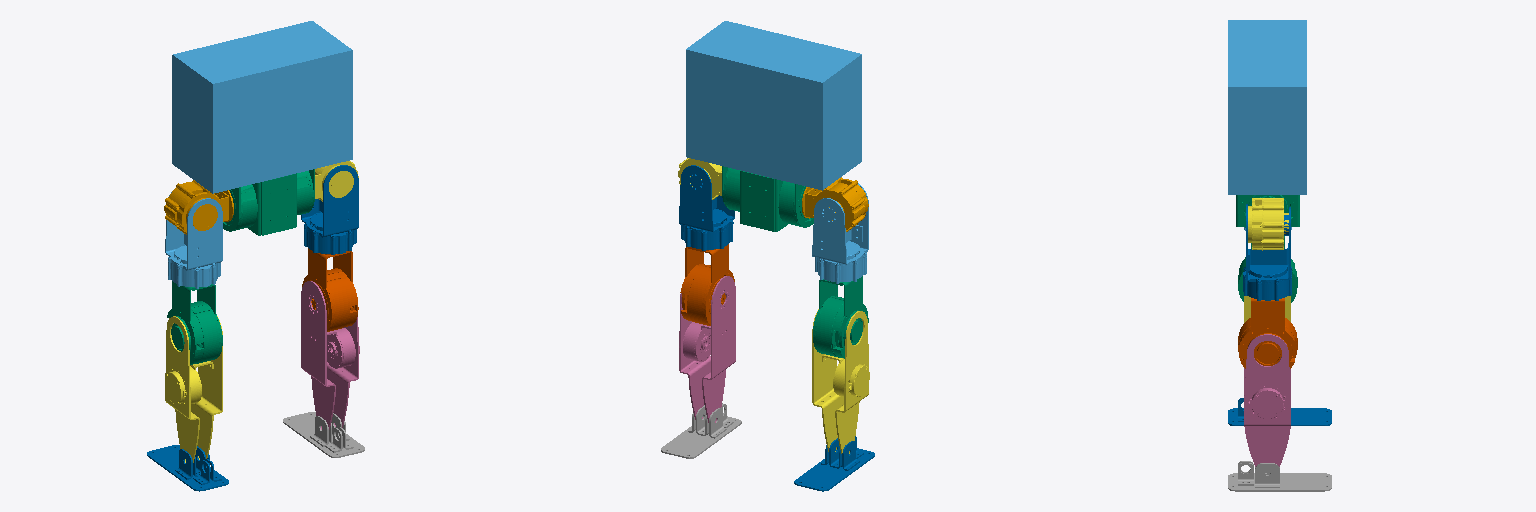
URDF robot description (ch_robot):
<?xml version='1.0' encoding='utf-8'?>
<robot name="ch_robot">
  <link name="base_link">
    <inertial>
      <mass value="0.5"/>  <!-- pick something reasonable -->
      <inertia ixx="0.01" ixy="0" ixz="0" iyy="0.01" iyz="0" izz="0.01"/>
    </inertial>
  </link>
  <link name="torso">
    <inertial>
      <!-- rough guess; tune later -->
      <mass value="10.0"/>
      <inertia ixx="0.05" ixy="0" ixz="0" iyy="0.05" iyz="0" izz="0.05"/>
    </inertial>

    <collision>
      <!-- box centered at torso frame -->
      <origin xyz="0 0 0" rpy="0 0 0" />
      <geometry>
        <box size="0.32 0.16 0.24" />
      </geometry>
    </collision>

    <visual>
      <origin xyz="0 0 0" rpy="0 0 0" />
      <geometry>
        <box size="0.32 0.16 0.24" />
      </geometry>
    </visual>
  </link>

  <link name="hip">
    <inertial>
      <origin xyz="-0.155587 -0.02906 0.584318" rpy="0 0 0"/>
      <mass value="5.159055"/>
      <inertia ixx="0.0156"
              ixy="0.000178966"
              ixz="0.000001857794"
              iyy="0.02377"
              iyz="-0.000043706028"
              izz="0.02517"/>
    </inertial>

    <collision>
      <origin xyz="0 0 0" rpy="0 0 0" />
      <geometry>
        <mesh filename="robot_meshes/hip_ch.stl" scale="0.001 0.001 0.001" />
      </geometry>
    </collision>
    <visual>
      <origin xyz="0 0 0" rpy="0 0 0" />
      <geometry>
        <mesh filename="robot_meshes/visual/hip_dumb2.stl" scale="0.001 0.001 0.001" />
      </geometry>
    </visual>
  </link>

  <link name="left_leg1">
    <inertial>
      <origin xyz="-0.005945 -0.035287 0.577433" rpy="0 0 0"/>
      <mass value="2.189611"/>
      <inertia ixx="0.002609"
              ixy="0.000081259088"
              ixz="0.000001365266"
              iyy="0.003137"
              iyz="0.000000223227"
              izz="0.003391"/>
    </inertial>

    <collision>
      <origin xyz="0.068372 0.029495 -0.577401" rpy="0 0 0" />
      <geometry>
        <mesh filename="robot_meshes/left_leg1_ch.stl" scale="0.001 0.001 0.001" />
      </geometry>
    </collision>
    <visual>
      <origin xyz="0.068372 0.029495 -0.577401" rpy="0 0 0" />
      <geometry>
        <mesh filename="robot_meshes/visual/left_leg1_dumb.stl" scale="0.001 0.001 0.001" />
      </geometry>
    </visual>
  </link>

  <link name="left_leg2">
    <inertial>
      <origin xyz="-0.000018 -0.025475 0.486173" rpy="0 0 0"/>
      <mass value="1.709674"/>
      <inertia ixx="0.006082"
              ixy="0.000025844041"
              ixz="0.000000765045"
              iyy="0.005232"
              iyz="-0.0005798"
              izz="0.002818"/>
    </inertial>

    <collision>
      <origin xyz="4.8e-05 0.029495 -0.577401" rpy="0 0 0" />
      <geometry>
        <mesh filename="robot_meshes/left_leg2_ch.stl" scale="0.001 0.001 0.001" />
      </geometry>
    </collision>
    <visual>
      <origin xyz="4.8e-05 0.029495 -0.577401" rpy="0 0 0" />
      <geometry>
        <mesh filename="robot_meshes/visual/left_leg2_dumb.stl" scale="0.001 0.001 0.001" />
      </geometry>
    </visual>
  </link>

  <link name="left_leg3">
    <inertial>
      <origin xyz="0.005174 -0.030248 0.318931" rpy="0 0 0"/>
      <mass value="3.156742"/>
      <inertia ixx="0.009368"
              ixy="0.000046968418"
              ixz="0.0002014"
              iyy="0.0081"
              iyz="-0.000049473856"
              izz="0.004377"/>
    </inertial>

    <collision>
      <origin xyz="4.8e-05 0.029495 -0.463816" rpy="0 0 0" />
      <geometry>
        <mesh filename="robot_meshes/left_leg3_ch.stl" scale="0.001 0.001 0.001" />
      </geometry>
    </collision>
    <visual>
      <origin xyz="4.8e-05 0.029495 -0.463816" rpy="0 0 0" />
      <geometry>
        <mesh filename="robot_meshes/visual/left_leg3_dumb.stl" scale="0.001 0.001 0.001" />
      </geometry>
    </visual>
  </link>

  <link name="left_leg4">
    <inertial>
      <origin xyz="0.001337 -0.031134 0.183938" rpy="0 0 0"/>
      <mass value="1.980828"/>
      <inertia ixx="0.01171"
              ixy="-0.000022781438"
              ixz="0.0002839"
              iyy="0.01193"
              iyz="-0.0002341"
              izz="0.002972"/>
    </inertial>

    <collision>
      <origin xyz="4.8e-05 0.029495 -0.306338" rpy="0 0 0" />
      <geometry>
        <mesh filename="robot_meshes/left_leg4_ch.stl" scale="0.001 0.001 0.001" />
      </geometry>
    </collision>
    <visual>
      <origin xyz="4.8e-05 0.029495 -0.306338" rpy="0 0 0" />
      <geometry>
        <mesh filename="robot_meshes/visual/left_leg4_dumb.stl" scale="0.001 0.001 0.001" />
      </geometry>
    </visual>
  </link>

  <link name="left_foot">
    <inertial>
      <origin xyz="-0.00053 -0.020276 0.011109" rpy="0 0 0"/>
      <mass value="0.765723"/>
      <inertia ixx="0.002071"
              ixy="-0.000017795772"
              ixz="0.000002818065"
              iyy="0.0004678"
              iyz="0.0001167"
              izz="0.002213"/>
    </inertial>

    <collision>
      <origin xyz="-0.00958 0.03 -0.031528" rpy="0 0 0" />
      <geometry>
        <mesh filename="robot_meshes/left_foot_ch.stl" scale="0.001 0.001 0.001" />
      </geometry>
    </collision>
    <visual>
      <origin xyz="-0.00958 0.03 -0.031528" rpy="0 0 0" />
      <geometry>
        <mesh filename="robot_meshes/visual/left_foot.stl" scale="0.001 0.001 0.001" />
      </geometry>
    </visual>
  </link>

  <link name="right_leg1">
    <inertial>
      <origin xyz="-0.305326 -0.035287 0.577434" rpy="0 0 0"/>
      <mass value="2.189548"/>
      <inertia ixx="0.002609"
              ixy="-0.000081252869"
              ixz="-0.00000135392"
              iyy="0.003137"
              iyz="0.00000024481"
              izz="0.003391"/>
    </inertial>
    <collision>
      <origin xyz="0.2429 0.029495 -0.577401" rpy="0 0 0" />
      <geometry>
        <mesh filename="robot_meshes/right_leg1_ch.stl" scale="0.001 0.001 0.001" />
      </geometry>
    </collision>
    <visual>
      <origin xyz="0.2429 0.029495 -0.577401" rpy="0 0 0" />
      <geometry>
        <mesh filename="robot_meshes/visual/right_leg1_dumb.stl" scale="0.001 0.001 0.001" />
      </geometry>
    </visual>
  </link>
  
  <link name="right_leg2">
    <inertial>
      <origin xyz="-0.311252 -0.025506 0.485714" rpy="0 0 0"/>
      <mass value="1.72284"/>
      <inertia ixx="0.006132"
              ixy="-0.000025837194"
              ixz="-0.000000742612"
              iyy="0.005281"
              iyz="-0.000583"
              izz="0.002822"/>
    </inertial>
    <collision>
      <origin xyz="0.311223 0.029495 -0.577401" rpy="0 0 0" />
      <geometry>
        <mesh filename="robot_meshes/right_leg2_ch.stl" scale="0.001 0.001 0.001" />
      </geometry>
    </collision>
    <visual>
      <origin xyz="0.311223 0.029495 -0.577401" rpy="0 0 0" />
      <geometry>
        <mesh filename="robot_meshes/visual/right_leg2_dumb.stl" scale="0.001 0.001 0.001" />
      </geometry>
    </visual>
  </link>
  <link name="right_leg3">
    <inertial>
      <origin xyz="-0.317293 -0.030266 0.31875" rpy="0 0 0"/>
      <mass value="3.074969"/>
      <inertia ixx="0.009174"
              ixy="-0.000045044639"
              ixz="-0.0002255"
              iyy="0.007824"
              iyz="-0.000049133206"
              izz="0.004262"/>
    </inertial>
    <collision>
      <origin xyz="0.311223 0.029495 -0.463816" rpy="0 0 0" />
      <geometry>
        <mesh filename="robot_meshes/right_leg3_ch.stl" scale="0.001 0.001 0.001" />
      </geometry>
    </collision>
    <visual>
      <origin xyz="0.311223 0.029495 -0.463816" rpy="0 0 0" />
      <geometry>
        <mesh filename="robot_meshes/visual/right_leg3_dumb.stl" scale="0.001 0.001 0.001" />
      </geometry>
    </visual>
  </link>
  <link name="right_leg4">
    <inertial>
      <origin xyz="-0.312608 -0.031134 0.183938" rpy="0 0 0"/>
      <mass value="1.980828"/>
      <inertia ixx="0.01171"
              ixy="0.000022781459"
              ixz="-0.0002839"
              iyy="0.01193"
              iyz="-0.0002341"
              izz="0.002972"/>
    </inertial>
    <collision>
      <origin xyz="0.311223 0.029495 -0.306338" rpy="0 0 0" />
      <geometry>
        <mesh filename="robot_meshes/right_leg4_ch.stl" scale="0.001 0.001 0.001" />
      </geometry>
    </collision>
    <visual>
      <origin xyz="0.311223 0.029495 -0.306338" rpy="0 0 0" />
      <geometry>
        <mesh filename="robot_meshes/visual/right_leg4_dumb.stl" scale="0.001 0.001 0.001" />
      </geometry>
    </visual>
  </link>
  
  <link name="right_foot">
    <inertial>
      <origin xyz="-0.310741 -0.020276 0.011109" rpy="0 0 0"/>
      <mass value="0.765723"/>
      <inertia ixx="0.002071"
              ixy="0.000017795772"
              ixz="-0.000002818065"
              iyy="0.0004678"
              iyz="0.0001167"
              izz="0.002213"/>
    </inertial>
    <collision>
      <origin xyz="0.320851 0.03 -0.031528" rpy="0 0 0" />
      <geometry>
        <mesh filename="robot_meshes/right_foot_ch.stl" scale="0.001 0.001 0.001" />
      </geometry>
    </collision>
    <visual>
      <origin xyz="0.320851 0.03 -0.031528" rpy="0 0 0" />
      <geometry>
        <mesh filename="robot_meshes/visual/right_foot.stl" scale="0.001 0.001 0.001" />
      </geometry>
    </visual>
  </link>

  <joint name="hip_to_torso" type="fixed">
    <parent link="hip"/>
    <child  link="torso"/>
    <!-- torso frame position relative to hip frame -->
    <origin xyz="-0.155 -0.03 0.765" rpy="0 0 0"/>
  </joint>

  
  <joint name="base_to_hip" type="fixed">
    <parent link="base_link"/>
    <child  link="hip"/>
    <origin xyz="0 0 0" rpy="0 0 0"/>
  </joint>
  <joint name="left_hip1_joint" type="revolute">
    <parent link="hip" />
    <child link="left_leg1" />
    <origin xyz="-0.068372 -0.029495 0.577401" rpy="0 0 0" />
    <axis xyz="1.0 0.0 0.0" />
    <limit lower="-1.57" upper="1.57" effort="100" velocity="5.0" />
    <dynamics damping="1.0" />
  </joint><joint name="left_hip2_joint" type="revolute">
    <parent link="left_leg1" />
    <child link="left_leg2" />
    <origin xyz="0.068324 0 0" rpy="0 0 0" />
    <axis xyz="0.0 1.0 0.0" />
    <limit lower="-1.57" upper="0.436332" effort="100" velocity="5.0" />
    <dynamics damping="1.0" />
  </joint><joint name="left_thigh_joint" type="revolute">
    <parent link="left_leg2" />
    <child link="left_leg3" />
    <origin xyz="0 0 -0.113585" rpy="0 0 0" />
    <axis xyz="0.0 0.0 1.0" />
    <limit lower="-0.785398" upper="0.785398" effort="100" velocity="5.0" />
    <dynamics damping="1.0" />
  </joint><joint name="left_knee_joint" type="revolute">
    <parent link="left_leg3" />
    <child link="left_leg4" />
    <origin xyz="0 0 -0.157478" rpy="0 0 0" />
    <axis xyz="1.0 0.0 0.0" />
    <limit lower="-2.0944" upper="0" effort="100" velocity="5.0" />
    <dynamics damping="1.0" />
  </joint><joint name="left_ankle_joint" type="revolute">
    <parent link="left_leg4" />
    <child link="left_foot" />
    <origin xyz="0.009628 -0.000505 -0.27481" rpy="0 0 0" />
    <axis xyz="1.0 0.0 0.0" />
    <limit lower="-0.6" upper="0.6" effort="100" velocity="5.0" />
    <dynamics damping="1.0" />
  </joint><joint name="right_hip1_joint" type="revolute">
    <parent link="hip" />
    <child link="right_leg1" />
    <origin xyz="-0.2429 -0.029495 0.577401" rpy="0 0 0" />
    <axis xyz="1.0 0.0 0.0" />
    <limit lower="-1.57" upper="1.57" effort="100" velocity="5.0" />
    <dynamics damping="1.0" />
  </joint><joint name="right_hip2_joint" type="revolute">
    <parent link="right_leg1" />
    <child link="right_leg2" />
    <origin xyz="-0.068323 0 0" rpy="0 0 0" />
    <axis xyz="0.0 1.0 0.0" />
    <limit lower="-0.436332" upper="1.57" effort="100" velocity="5.0" />
    <dynamics damping="1.0" />
  </joint><joint name="right_thigh_joint" type="revolute">
    <parent link="right_leg2" />
    <child link="right_leg3" />
    <origin xyz="0 0 -0.113585" rpy="0 0 0" />
    <axis xyz="0.0 0.0 1.0" />
    <limit lower="-0.785398" upper="0.785398" effort="100" velocity="5.0" />
    <dynamics damping="1.0" />
  </joint><joint name="right_knee_joint" type="revolute">
    <parent link="right_leg3" />
    <child link="right_leg4" />
    <origin xyz="0 0 -0.157478" rpy="0 0 0" />
    <axis xyz="1.0 0.0 0.0" />
    <limit lower="-2.0944" upper="0" effort="100" velocity="5.0" />
    <dynamics damping="1.0" />
  </joint><joint name="right_ankle_joint" type="revolute">
    <parent link="right_leg4" />
    <child link="right_foot" />
    <origin xyz="-0.009628 -0.000505 -0.27481" rpy="0 0 0" />
    <axis xyz="1.0 0.0 0.0" />
    <limit lower="-0.6" upper="0.6" effort="100" velocity="5.0" />
    <dynamics damping="1.0" />
  </joint>
</robot>

<!-- 
Note this urdf is offset because the fusion360 mesh export was done with reference 
to a global coordinate frame positioned at the foot. 

The ranges are as follows:


-->

--- Facts derived from the render (not from the file) ---
The picture shows the robot from 3 angles, left to right: view 1: azimuth 30°, elevation 25°; view 2: azimuth 150°, elevation 25°; view 3: azimuth 270°, elevation 25°; orthographic projection.
Model ch_robot with 13 links and 12 joints (10 revolute, 2 fixed), rooted at base_link, posed all joints at 0.
Links seen in each view (by area): view 1: torso, left_leg4, right_leg4, hip, right_leg2, left_leg2, right_leg3, left_leg3, right_leg1, right_foot, left_foot, left_leg1; view 2: torso, left_leg4, right_leg4, hip, right_leg2, left_leg2, right_leg3, left_leg3, left_foot, right_foot, right_leg1, left_leg1; view 3: torso, left_leg4, left_leg3, left_leg2, left_foot, left_leg1, right_foot, hip.
Boxes of the visible links, x1=… form: torso: x1=172, y1=21, x2=352, y2=193; left_leg4: x1=301, y1=281, x2=359, y2=429; right_leg4: x1=165, y1=316, x2=222, y2=462; hip: x1=223, y1=169, x2=314, y2=235; right_leg2: x1=165, y1=192, x2=222, y2=288; left_leg2: x1=301, y1=165, x2=358, y2=254; right_leg3: x1=167, y1=281, x2=222, y2=364; left_leg3: x1=302, y1=248, x2=358, y2=331; right_leg1: x1=164, y1=180, x2=233, y2=234; right_foot: x1=147, y1=445, x2=228, y2=491; left_foot: x1=283, y1=412, x2=364, y2=457; left_leg1: x1=315, y1=161, x2=358, y2=201; torso: x1=686, y1=21, x2=861, y2=190; left_leg4: x1=679, y1=276, x2=735, y2=422; right_leg4: x1=812, y1=309, x2=869, y2=453; hip: x1=722, y1=166, x2=813, y2=231; right_leg2: x1=812, y1=183, x2=868, y2=283; left_leg2: x1=679, y1=165, x2=734, y2=250; right_leg3: x1=813, y1=276, x2=868, y2=358; left_leg3: x1=680, y1=244, x2=734, y2=325; left_foot: x1=661, y1=403, x2=741, y2=458; right_foot: x1=794, y1=436, x2=874, y2=491; right_leg1: x1=802, y1=177, x2=868, y2=231; left_leg1: x1=678, y1=158, x2=721, y2=199; torso: x1=1228, y1=20, x2=1306, y2=194; left_leg4: x1=1244, y1=334, x2=1290, y2=466; left_leg3: x1=1238, y1=298, x2=1297, y2=368; left_leg2: x1=1243, y1=204, x2=1291, y2=300; left_foot: x1=1228, y1=461, x2=1331, y2=491; left_leg1: x1=1248, y1=198, x2=1288, y2=250; right_foot: x1=1228, y1=398, x2=1331, y2=425; hip: x1=1236, y1=195, x2=1299, y2=227.
Size in the robot's own frame: 0.4118 by 0.21 by 0.885 metres.
11 mesh visuals loaded from 11 distinct referenced files (11 binary STL).